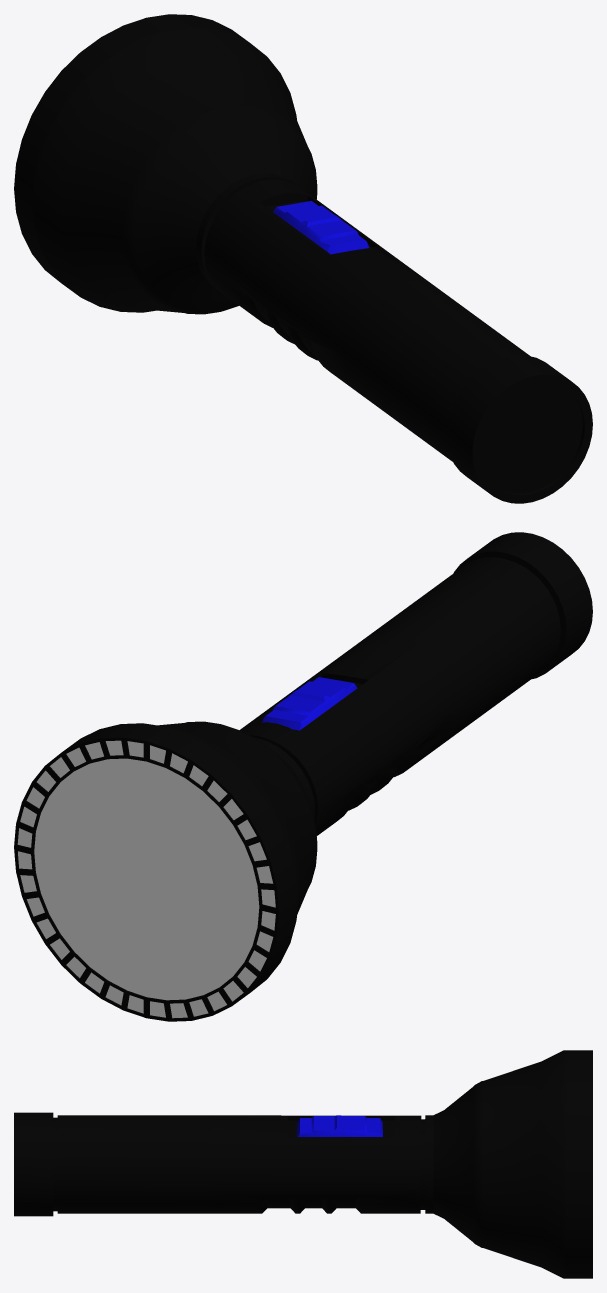
Rendered from linterna.obj.
The picture shows the model from 3 angles, top to bottom: view 1: azimuth 30°, elevation 25°; view 2: azimuth 150°, elevation 25°; view 3: azimuth 270°, elevation 25°; orthographic projection. The views are drawn at different scales.
Parts seen in each view (by area): view 1: Cylinder_Mat_0, Cube_Mat.1_0; view 2: Cylinder_Mat_0, glass_Mat.4_0, Cube_Mat.1_0; view 3: Cylinder_Mat_0, Cube_Mat.1_0.
Part boxes in pixels (x1,y1,x2,y2): Cylinder_Mat_0: (14,14,592,503); Cube_Mat.1_0: (273,201,369,254); Cylinder_Mat_0: (14,532,592,1021); glass_Mat.4_0: (17,740,275,1018); Cube_Mat.1_0: (261,677,357,730); Cylinder_Mat_0: (14,1050,592,1278); Cube_Mat.1_0: (297,1115,382,1136).
Bounding box in the file's own units: 306 × 306 × 773.
7 materials, 1 textured.
